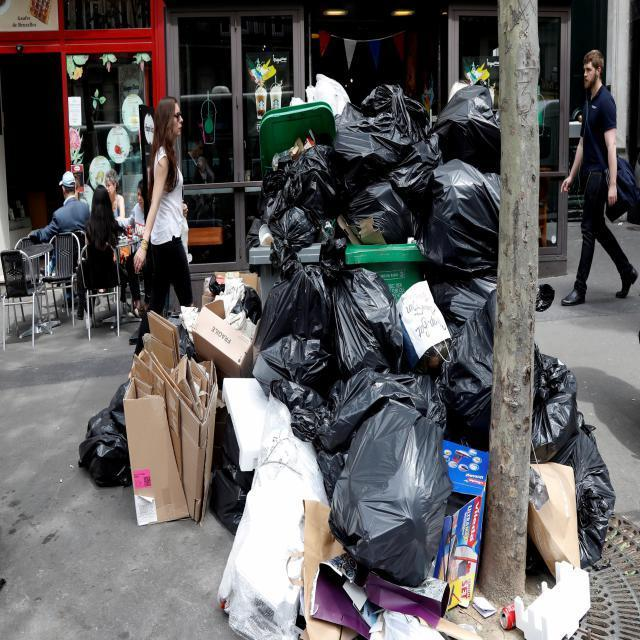Trashbag: (328, 410, 457, 583), (526, 351, 616, 559), (252, 255, 344, 383), (257, 134, 347, 262), (411, 160, 499, 276), (454, 290, 515, 440), (336, 90, 418, 182), (438, 82, 510, 179), (344, 161, 422, 249), (338, 267, 396, 376), (76, 383, 131, 485)
